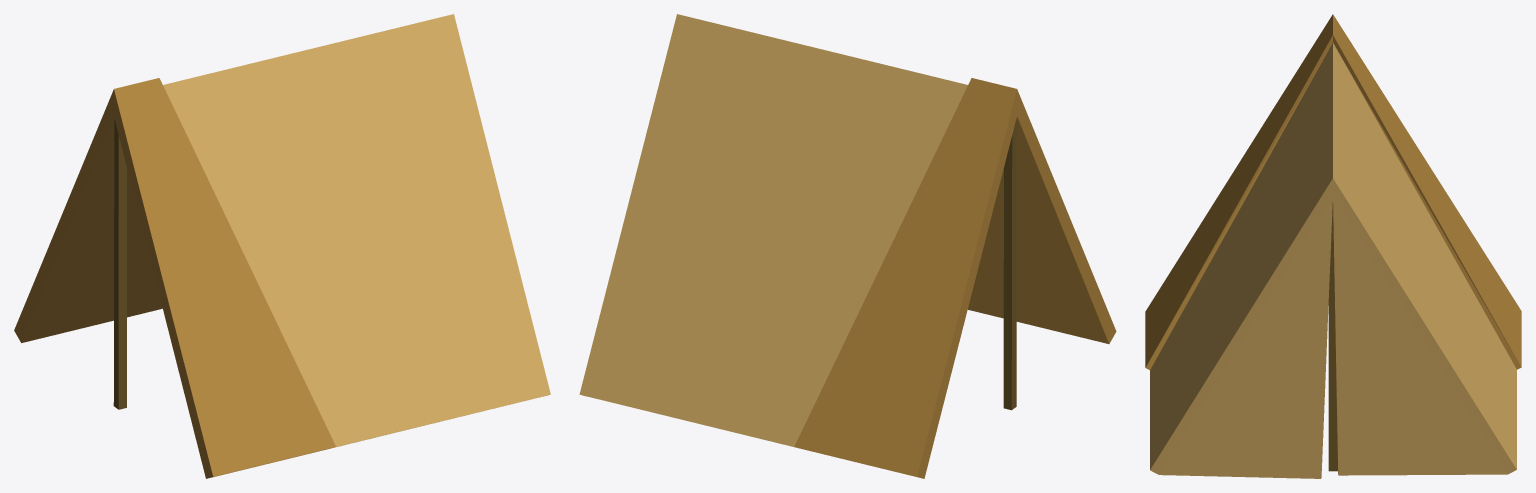
Rendered from Tent.glb.
The picture shows the model from 3 angles, left to right: view 1: azimuth 30°, elevation 25°; view 2: azimuth 150°, elevation 25°; view 3: azimuth 270°, elevation 25°; orthographic projection. The views are drawn at different scales.
Parts seen in each view (by area): view 1: Box003; view 2: Box003; view 3: Box003.
Part boxes in pixels (x1=…): Box003: x1=14, y1=14, x2=550, y2=478; Box003: x1=579, y1=14, x2=1116, y2=478; Box003: x1=1145, y1=14, x2=1521, y2=478.
Bounding box in the file's own units: 85.37 × 75.53 × 84.53.
